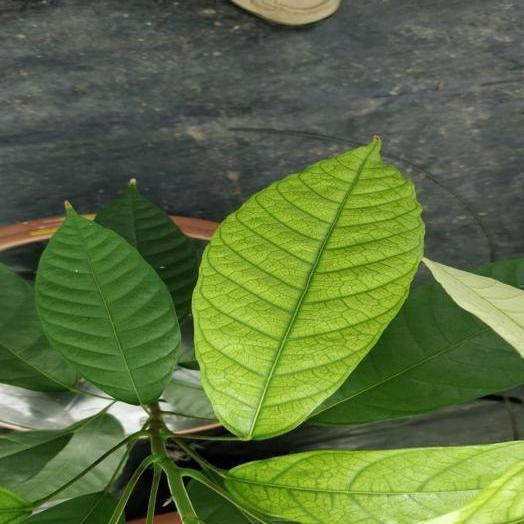Healthy Leaf: (313, 261, 523, 426), (36, 206, 179, 404), (95, 182, 197, 324), (0, 263, 76, 391)
Iron: (194, 137, 423, 439), (225, 441, 523, 523), (423, 258, 523, 358)
